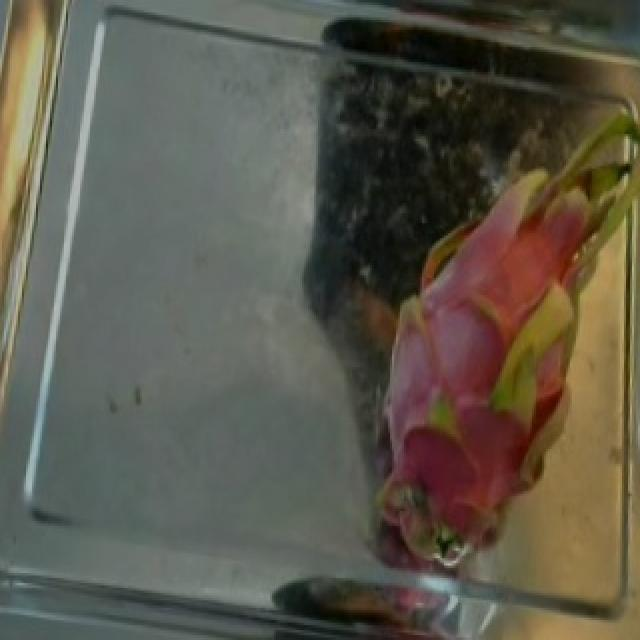fruit: (342, 77, 640, 526)
